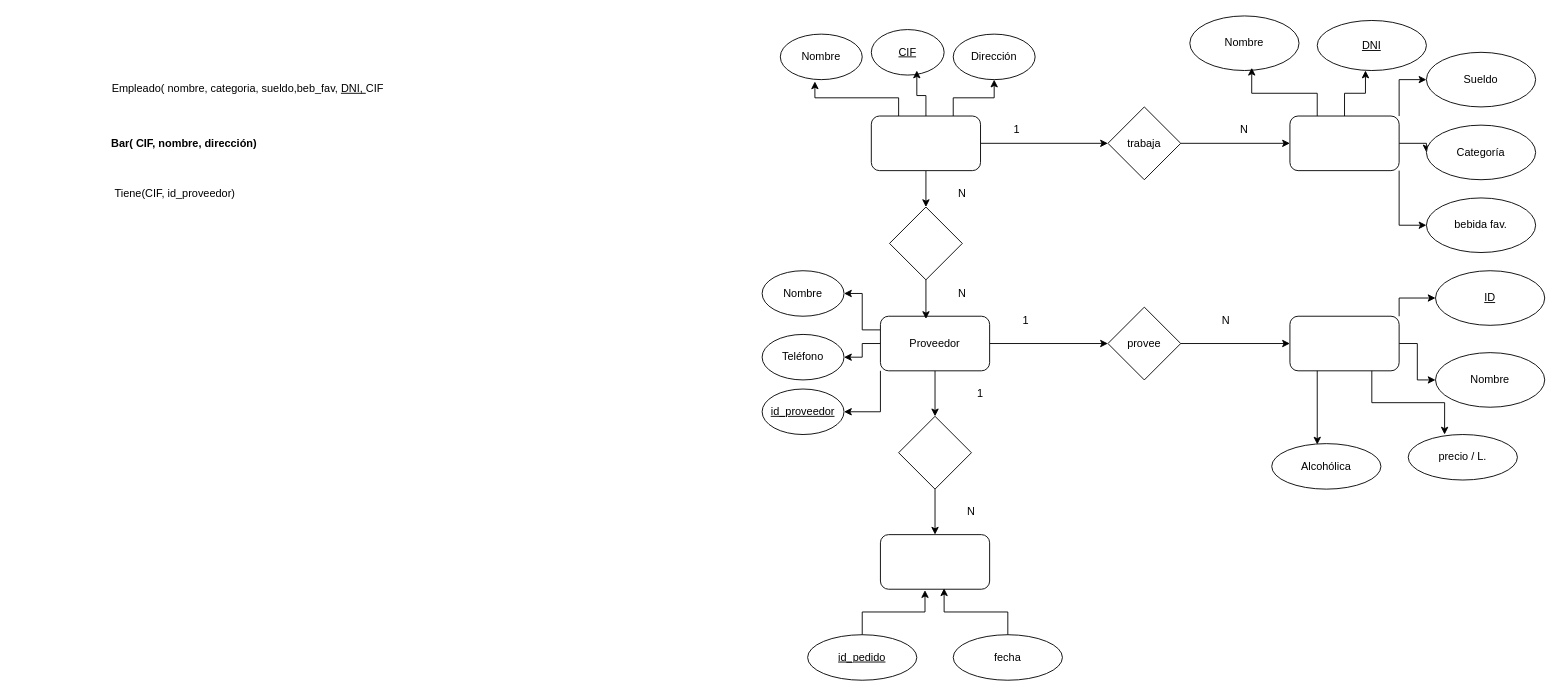
Image size: 1561x696. Some labels were removed from this diagram. Each missing label, with the box of its shape:
Bar: (870, 115, 981, 171)
Bebida: (1289, 315, 1399, 371)
Empleado: (1289, 115, 1399, 171)
Pedidos: (880, 534, 990, 589)
recibe: (898, 415, 971, 489)
tiene: (889, 206, 962, 280)
